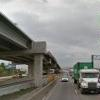Bridge: (6, 7, 56, 86)
